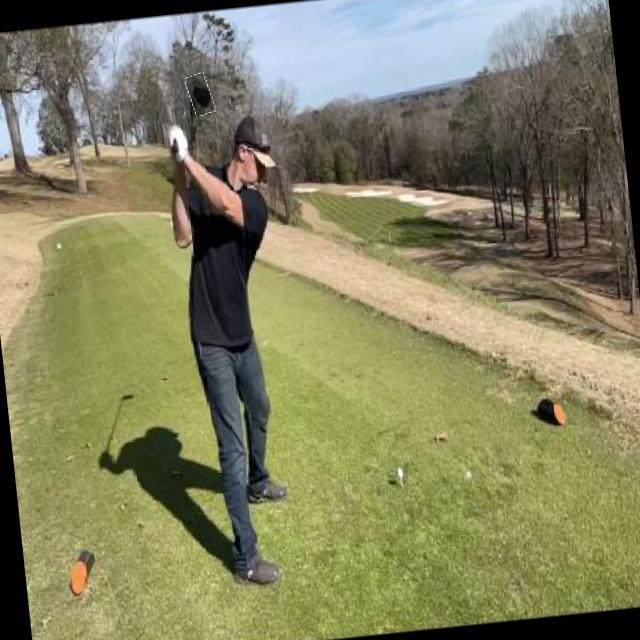club head: (186, 72, 214, 116)
